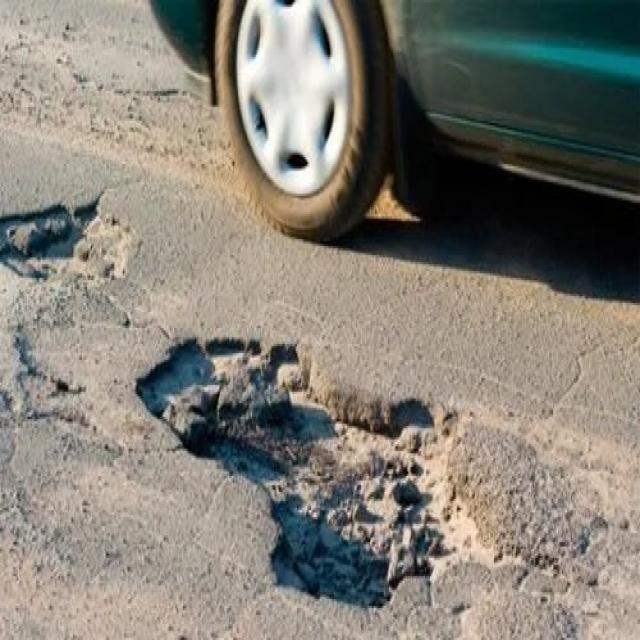Pothole: (130, 326, 594, 612), (6, 198, 127, 283)
